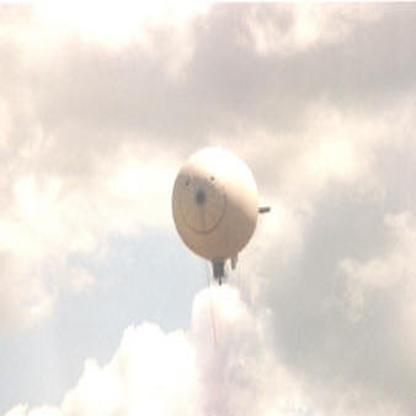Airship: (170, 143, 274, 287)
